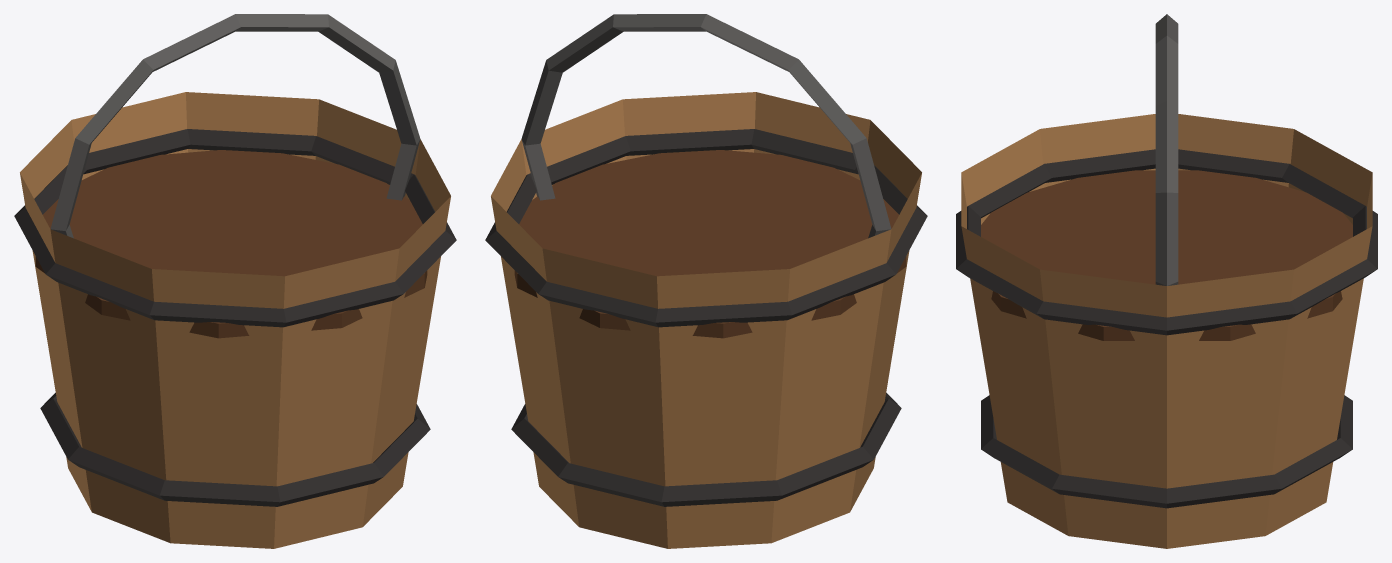
The model's file is Bucket.fbx.
3 views of the same model, side by side, from view 1: azimuth 30°, elevation 25°; view 2: azimuth 150°, elevation 25°; view 3: azimuth 270°, elevation 25° (orthographic). The views are drawn at different scales.
Visible parts, largest first — view 1: Bucket; view 2: Bucket; view 3: Bucket.
Part boxes in pixels (bbox=[...]): Bucket: bbox=[14, 14, 456, 548]; Bucket: bbox=[485, 14, 927, 548]; Bucket: bbox=[956, 14, 1377, 548].
Size of the model in its own units: 1.2 by 1.4 by 1.2.
